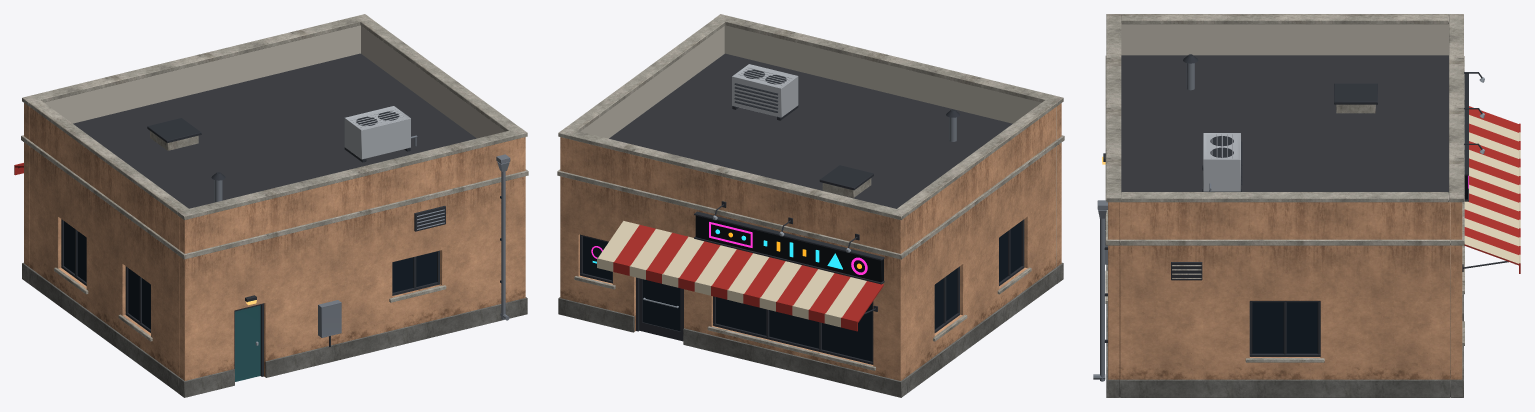
The model's file is destructible_smallbuilding_intact.glb.
The picture shows the model from 3 angles, left to right: view 1: azimuth 30°, elevation 25°; view 2: azimuth 150°, elevation 25°; view 3: azimuth 270°, elevation 25°; orthographic projection. The views are drawn at different scales.
Parts seen in each view (by area): view 1: SmallBuilding_Body; view 2: SmallBuilding_Body; view 3: SmallBuilding_Body.
Boxes of the visible parts, x1,y1,x2,y2 form: SmallBuilding_Body: (14, 14, 528, 397); SmallBuilding_Body: (557, 14, 1064, 397); SmallBuilding_Body: (1093, 14, 1520, 397).
Size of the model in its own units: 11.14 by 5.6 by 10.85.
Materials: 18 (3 with a texture image).
